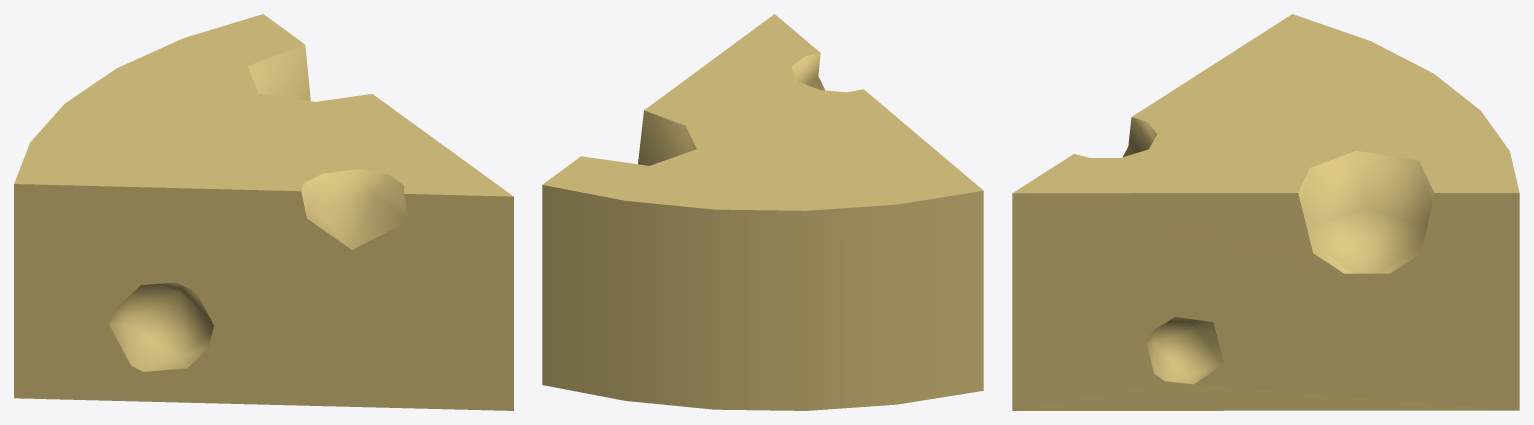
Rendered from SM_Cheese.fbx.
3 renders of one model, left to right at view 1: azimuth 30°, elevation 25°; view 2: azimuth 150°, elevation 25°; view 3: azimuth 270°, elevation 25°, orthographic. The views are drawn at different scales.
Visible parts, largest first — view 1: CheeseWedge.001; view 2: CheeseWedge.001; view 3: CheeseWedge.001.
Boxes of the visible parts, x1,y1,x2,y2 form: CheeseWedge.001: (14,14,513,410); CheeseWedge.001: (542,14,983,410); CheeseWedge.001: (1012,14,1519,410).
Size of the model in its own units: 17.9 by 10.13 by 21.4.
